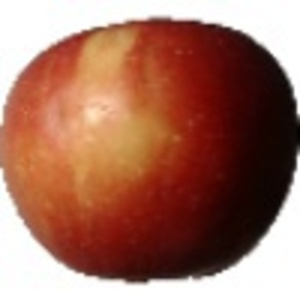maçã braeburn: (1, 15, 300, 284)
